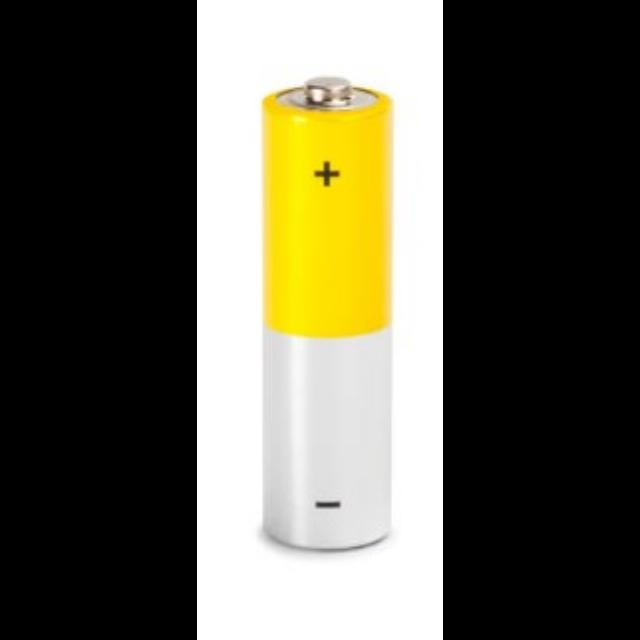Battery: (263, 78, 392, 550)
